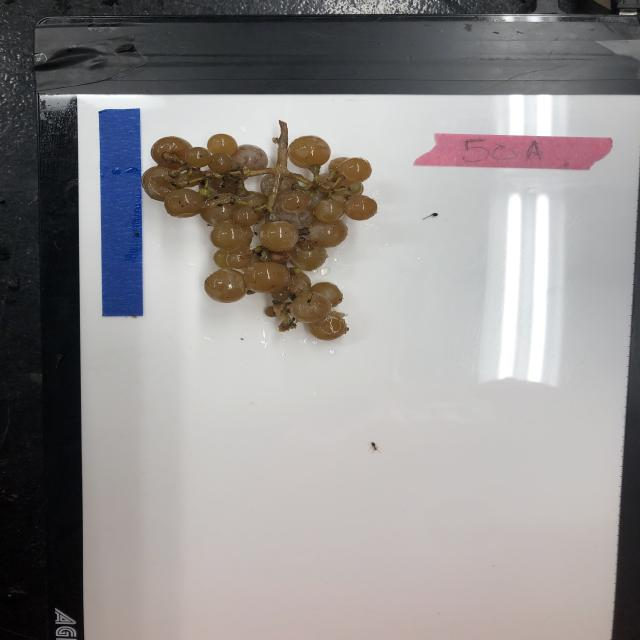grape_cluster: (143, 121, 384, 342)
index: (413, 130, 613, 171)
measure_label: (99, 106, 145, 319)
